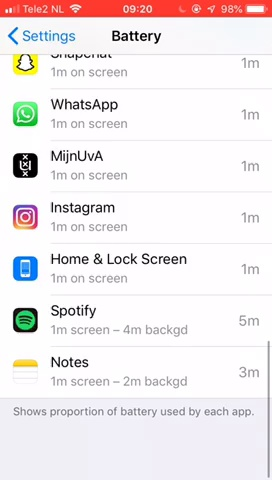app: (10, 95, 265, 132), (9, 149, 264, 186), (11, 199, 266, 236), (12, 251, 267, 288), (8, 300, 263, 337), (8, 352, 263, 389)
